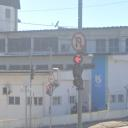NoVirarU: (70, 32, 86, 52)
